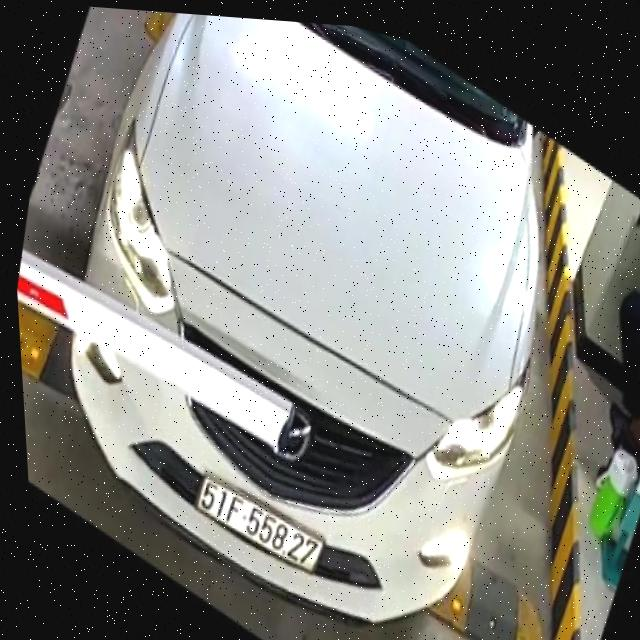car: (54, 13, 551, 633)
plate: (188, 469, 338, 585)
